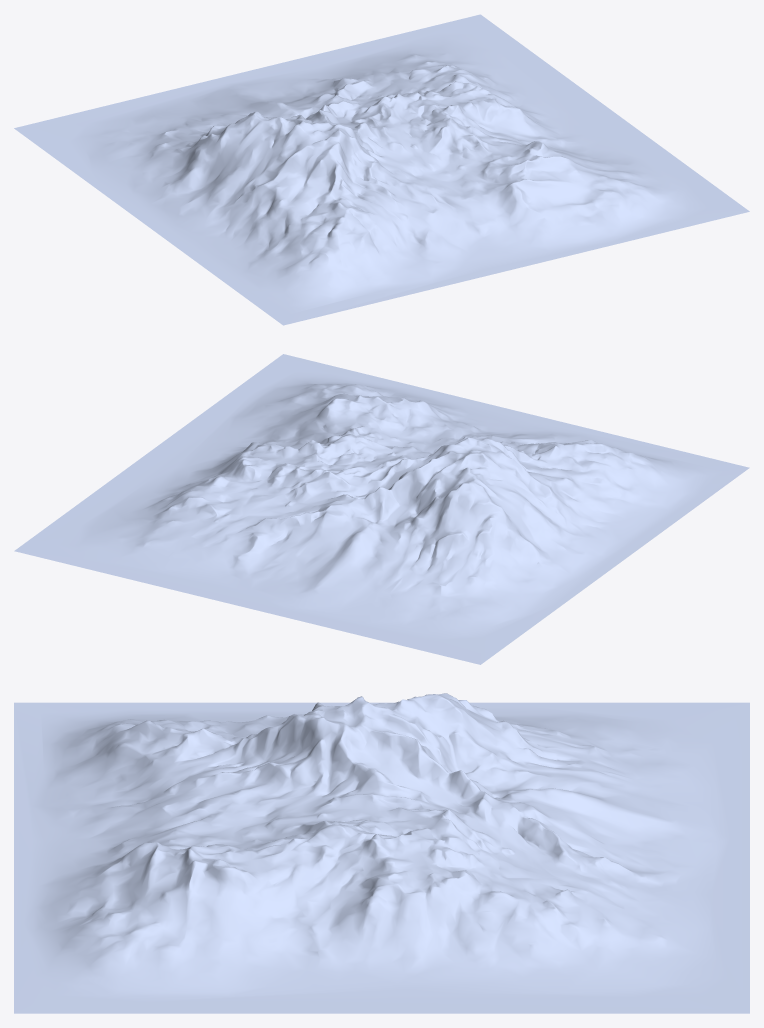
3 views of the same model, one above another, from view 1: azimuth 30°, elevation 25°; view 2: azimuth 150°, elevation 25°; view 3: azimuth 270°, elevation 25° (orthographic). The views are drawn at different scales.
Visible parts, largest first — view 1: SM_Background_Mountain_LOD0; view 2: SM_Background_Mountain_LOD0; view 3: SM_Background_Mountain_LOD0.
Boxes of the visible parts, left/top/right/bottom form: SM_Background_Mountain_LOD0: left=14, top=14, right=749, bottom=325; SM_Background_Mountain_LOD0: left=14, top=354, right=749, bottom=664; SM_Background_Mountain_LOD0: left=14, top=693, right=749, bottom=1013.
Bounding box in the file's own units: 80.16 × 11.98 × 80.16.
